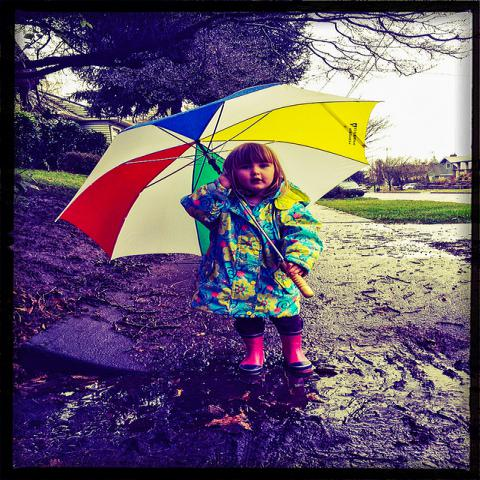car: (338, 182, 368, 196), (403, 183, 416, 190)
